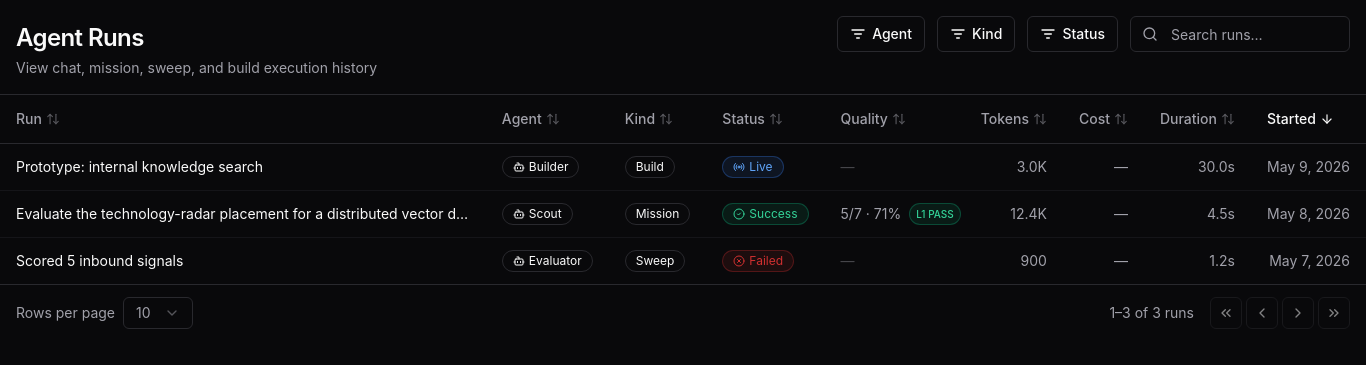
Test: RunsTable › renders an empty state when no runs match the current filters
Type "no-such-mission-text-anywhere" into the search field with test id "runs-search-input" at [1240, 34], box [1130, 16, 1350, 52]
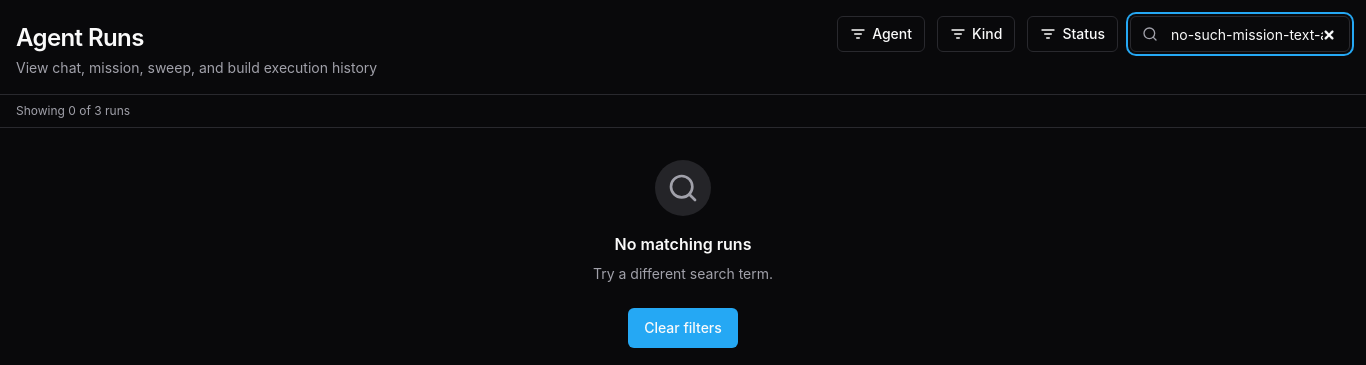
Expected: the row with test id "run-row-run-mission-1" is gone
Expected: the row with test id "run-row-run-sweep-1" is gone
Expected: the row with test id "run-row-run-build-1" is gone
